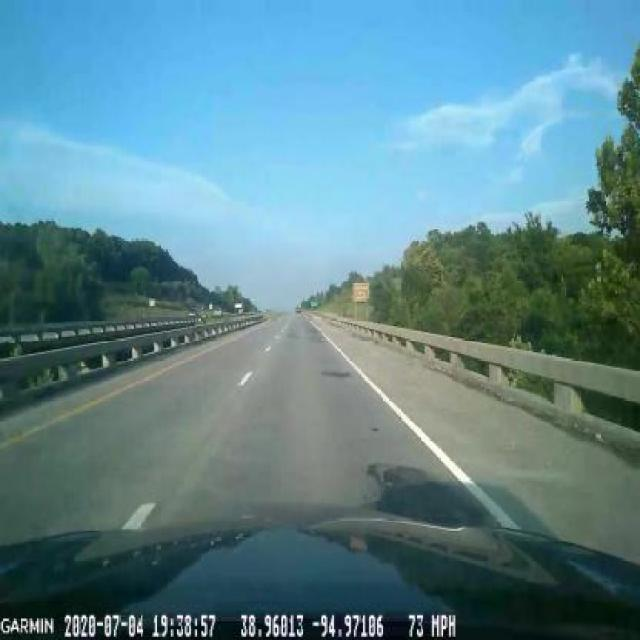pothole: (359, 442, 516, 528)
